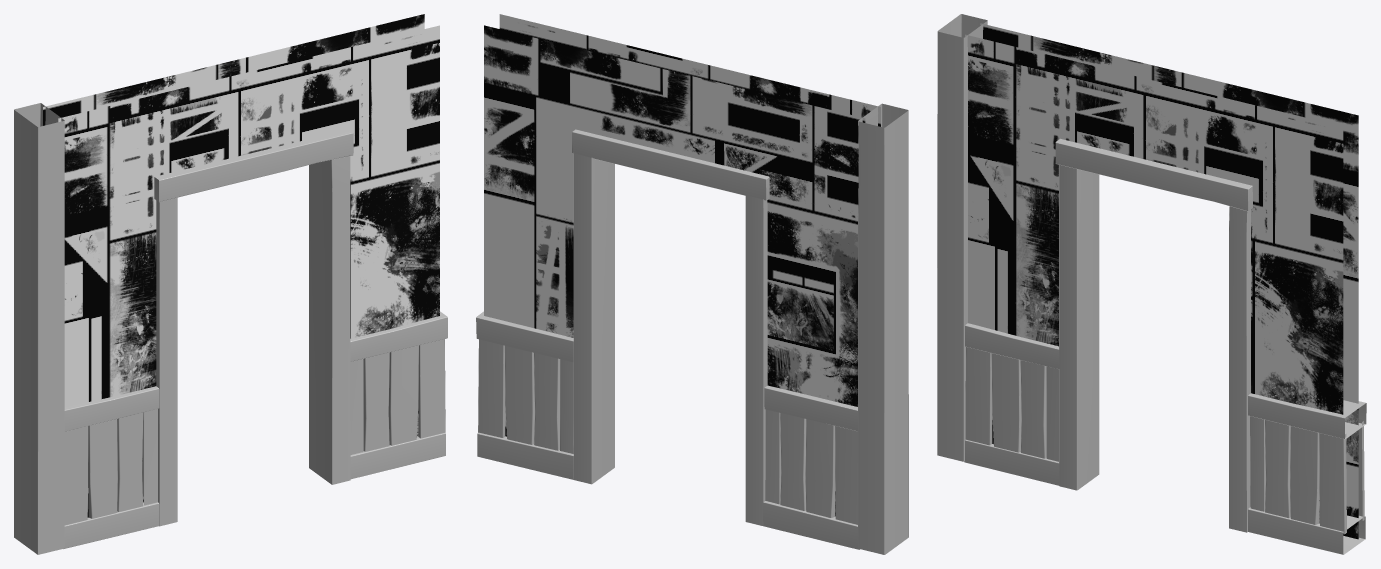
The model's file is SM_wall01_Wall_006.fbx.
The picture shows the model from 3 angles, left to right: view 1: azimuth 30°, elevation 25°; view 2: azimuth 150°, elevation 25°; view 3: azimuth 330°, elevation 25°; orthographic projection.
Visible parts, largest first — view 1: SM_wall01_Wall_006_LOD0; view 2: SM_wall01_Wall_006_LOD0; view 3: SM_wall01_Wall_006_LOD0.
Boxes of the visible parts, x1,y1,x2,y2 form: SM_wall01_Wall_006_LOD0: (14, 14, 447, 554); SM_wall01_Wall_006_LOD0: (476, 14, 908, 554); SM_wall01_Wall_006_LOD0: (937, 14, 1366, 554).
Bounding box in the file's own units: 304 × 32.34 × 304.
